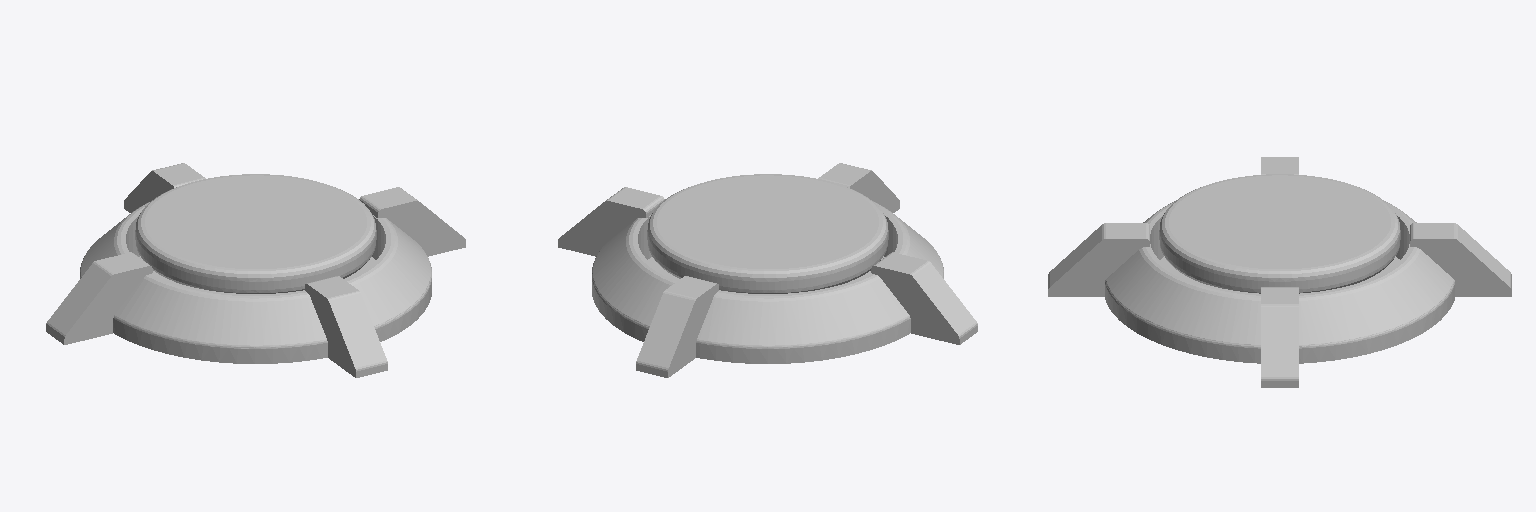
Rendered from trigger.obj.
The picture shows the model from 3 angles: view 1: azimuth 30°, elevation 25°; view 2: azimuth 150°, elevation 25°; view 3: azimuth 270°, elevation 25°; orthographic projection.
Parts seen in each view (by area): view 1: object_6, object_5, object_2, object_1, object_4, object_3; view 2: object_6, object_5, object_2, object_3, object_4, object_1; view 3: object_5, object_6, object_1, object_3, object_4, object_2.
Boxes of the visible parts, x1,y1,x2,y2 form: object_6: [135, 174, 376, 293]; object_5: [80, 202, 431, 363]; object_2: [46, 252, 152, 344]; object_1: [305, 276, 387, 377]; object_4: [359, 187, 465, 256]; object_3: [124, 163, 205, 212]; object_6: [647, 174, 888, 293]; object_5: [592, 201, 943, 363]; object_2: [871, 252, 977, 344]; object_3: [636, 276, 718, 377]; object_4: [558, 187, 664, 256]; object_1: [818, 163, 899, 212]; object_5: [1105, 201, 1454, 363]; object_6: [1159, 174, 1400, 293]; object_1: [1048, 223, 1149, 296]; object_3: [1410, 223, 1511, 296]; object_4: [1261, 287, 1298, 387]; object_2: [1261, 157, 1298, 174].
Size of the model in its own units: 50 by 8 by 50.